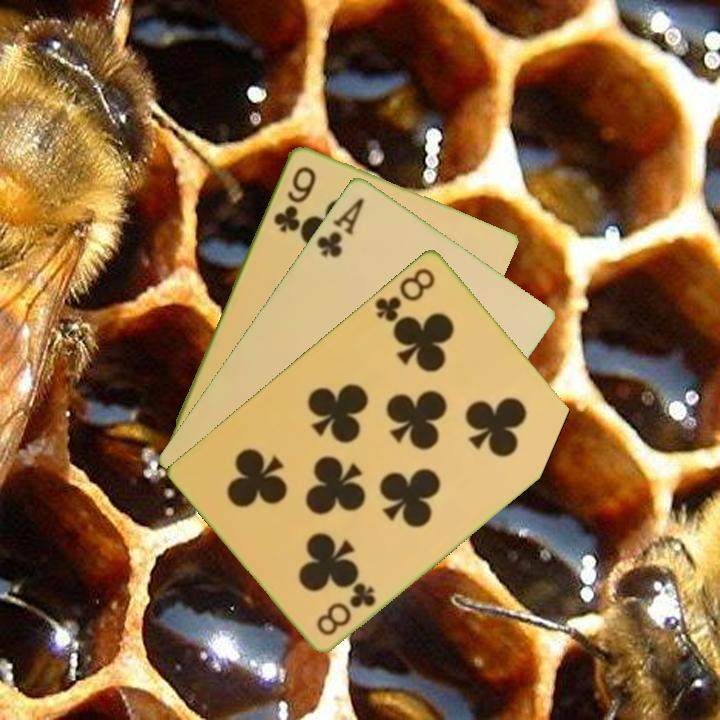8c: (371, 263, 439, 325), (313, 578, 379, 638)
9c: (270, 162, 319, 235)
Ac: (312, 193, 367, 260)
